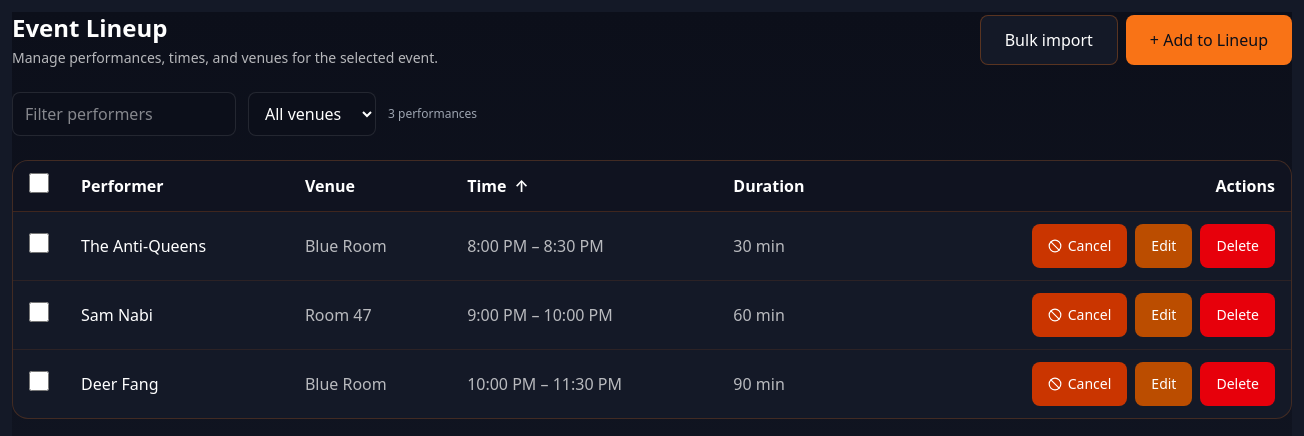
Test case: LineupTab — filtering and sorting › filters by venue, independent of search
The width and height of the screenshot is (1304, 436).
Expected: the table is shown, [13, 161, 1291, 418]
Select "Room 47" in the dropdown named "Filter performers by venue" at (312, 114), box [248, 92, 376, 136]
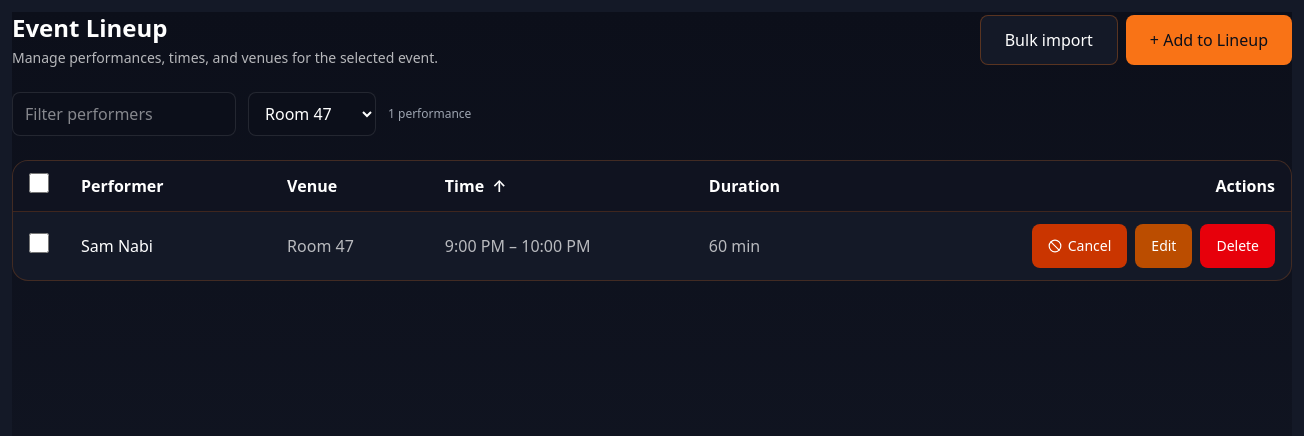
Expected: the text "Sam Nabi" is shown, [81, 234, 153, 258]
Now the text "The Anti-Queens" is gone
Now the text "Deer Fang" is gone
